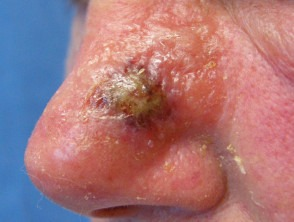Warts: (82, 50, 180, 143)
